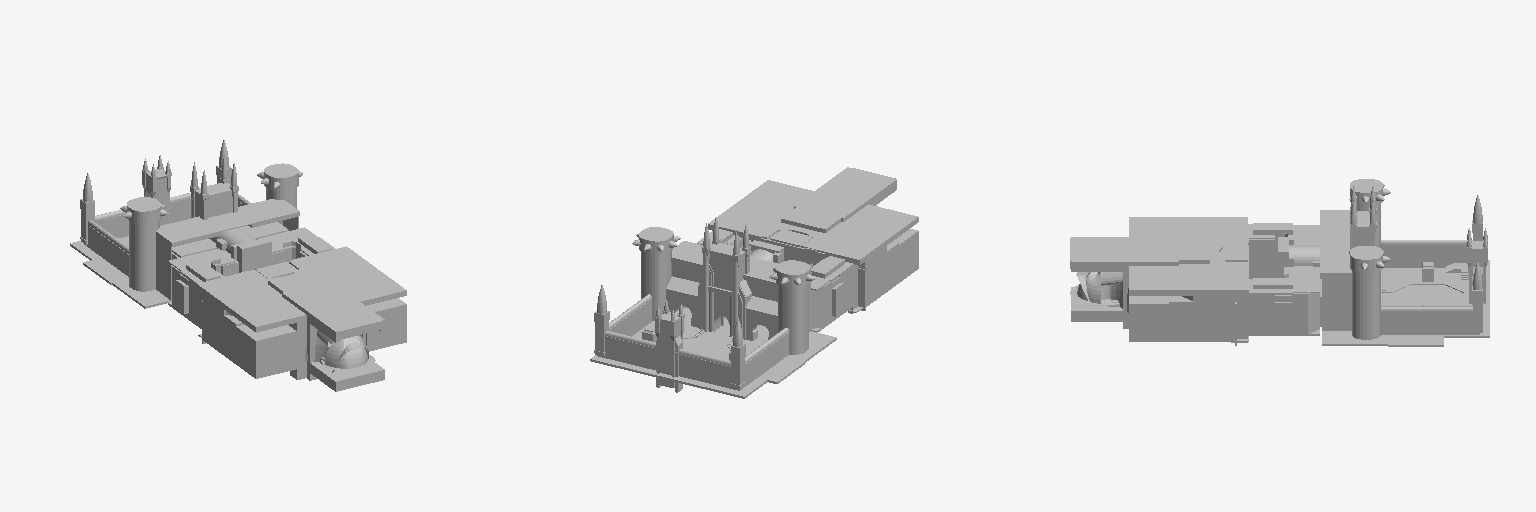
File: q3dm1-small.obj
3 views of the same model, side by side, from view 1: azimuth 30°, elevation 25°; view 2: azimuth 150°, elevation 25°; view 3: azimuth 270°, elevation 25° (orthographic).
Parts seen in each view (by area): view 1: entity0_brush292, entity0_brush597, entity0_brush291, entity0_patch849, entity0_brush314, entity0_brush282, entity0_brush67, entity0_brush289, entity0_brush79, entity0_patch876, entity0_brush132, entity0_brush161 (+6 smaller); view 2: entity0_brush292, entity0_brush597, entity0_brush291, entity0_brush161, entity0_patch849, entity0_patch853, entity0_brush343, entity0_brush159, entity0_brush79, entity0_patch884, entity0_brush160, entity0_brush286 (+2 smaller); view 3: entity0_brush291, entity0_brush597, entity0_brush292, entity0_patch853, entity0_brush160, entity0_brush131, entity0_brush159, entity0_brush545, entity0_brush313, entity0_brush251, entity0_brush216, entity0_brush288 (+10 smaller).
Part boxes in pixels (left/top/right/bottom): entity0_brush292: left=197, top=271, right=306, bottom=332; entity0_brush597: left=268, top=270, right=382, bottom=339; entity0_brush291: left=293, top=246, right=406, bottom=305; entity0_patch849: left=129, top=221, right=159, bottom=291; entity0_brush314: left=232, top=324, right=296, bottom=355; entity0_brush282: left=310, top=362, right=384, bottom=391; entity0_brush67: left=156, top=216, right=220, bottom=246; entity0_brush289: left=232, top=339, right=296, bottom=373; entity0_brush79: left=237, top=199, right=299, bottom=227; entity0_patch876: left=325, top=336, right=367, bottom=368; entity0_brush132: left=156, top=236, right=171, bottom=299; entity0_brush161: left=97, top=201, right=190, bottom=236; entity0_brush292: left=807, top=204, right=918, bottom=265; entity0_brush597: left=781, top=168, right=895, bottom=232; entity0_brush291: left=708, top=180, right=813, bottom=240; entity0_brush161: left=605, top=338, right=730, bottom=386; entity0_patch849: left=778, top=284, right=808, bottom=354; entity0_patch853: left=641, top=250, right=671, bottom=320; entity0_brush343: left=616, top=362, right=756, bottom=398; entity0_brush159: left=745, top=335, right=788, bottom=384; entity0_brush79: left=671, top=241, right=702, bottom=268; entity0_patch884: left=605, top=331, right=730, bottom=365; entity0_brush160: left=611, top=302, right=651, bottom=335; entity0_brush286: left=840, top=179, right=896, bottom=221; entity0_brush291: left=1129, top=264, right=1248, bottom=295; entity0_brush597: left=1070, top=238, right=1209, bottom=268; entity0_brush292: left=1129, top=217, right=1247, bottom=241; entity0_patch853: left=1352, top=271, right=1380, bottom=339; entity0_brush160: left=1381, top=314, right=1472, bottom=331; entity0_brush131: left=1322, top=278, right=1351, bottom=330; entity0_brush159: left=1381, top=248, right=1466, bottom=264; entity0_brush545: left=1248, top=294, right=1274, bottom=333; entity0_brush313: left=1129, top=296, right=1177, bottom=318; entity0_brush251: left=1178, top=319, right=1234, bottom=336; entity0_brush216: left=1249, top=239, right=1274, bottom=278; entity0_brush288: left=1071, top=260, right=1178, bottom=271.
Size of the model in its own units: 766 by 511 by 1526.